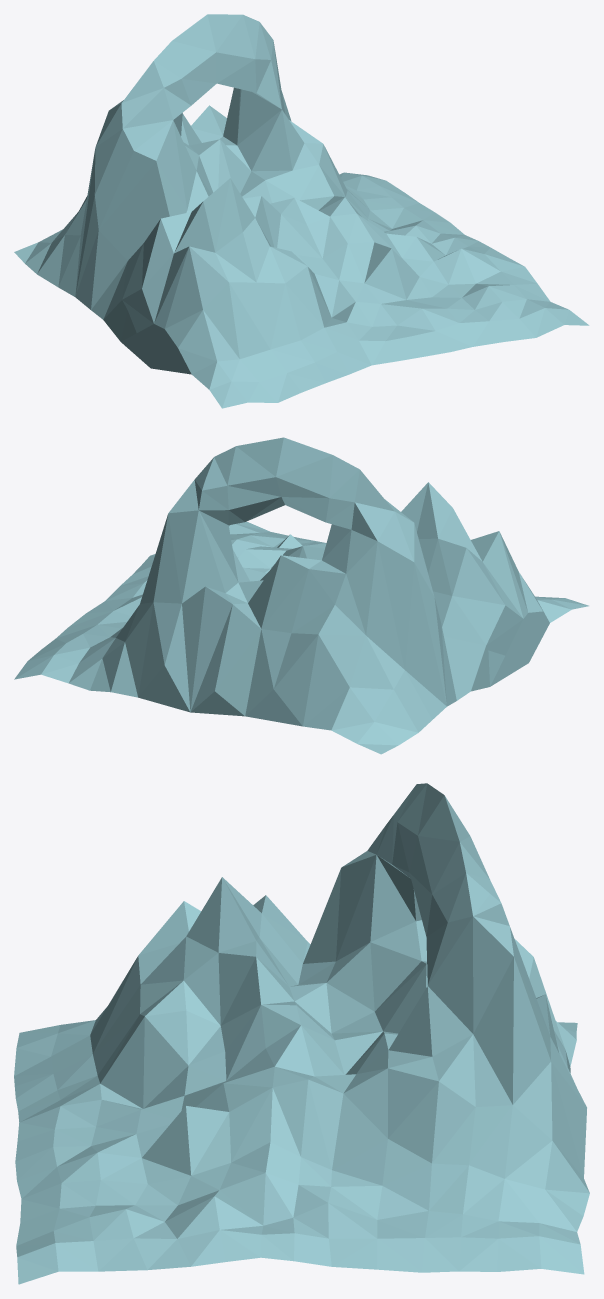
Rendered from icebergWithBridge.fbx.
3 views of the same model, one above another, from view 1: azimuth 30°, elevation 25°; view 2: azimuth 150°, elevation 25°; view 3: azimuth 270°, elevation 25° (orthographic). The views are drawn at different scales.
Parts seen in each view (by area): view 1: Plane; view 2: Plane; view 3: Plane.
Part boxes in pixels (x1,y1,x2,y2): Plane: [14, 14, 589, 408]; Plane: [14, 437, 588, 754]; Plane: [14, 783, 589, 1284].
Bounding box in the file's own units: 1667 × 1064 × 1630.
